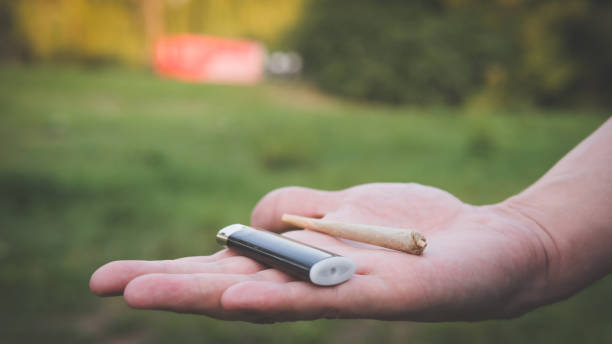cigarette: (217, 223, 359, 286), (282, 206, 430, 255)
